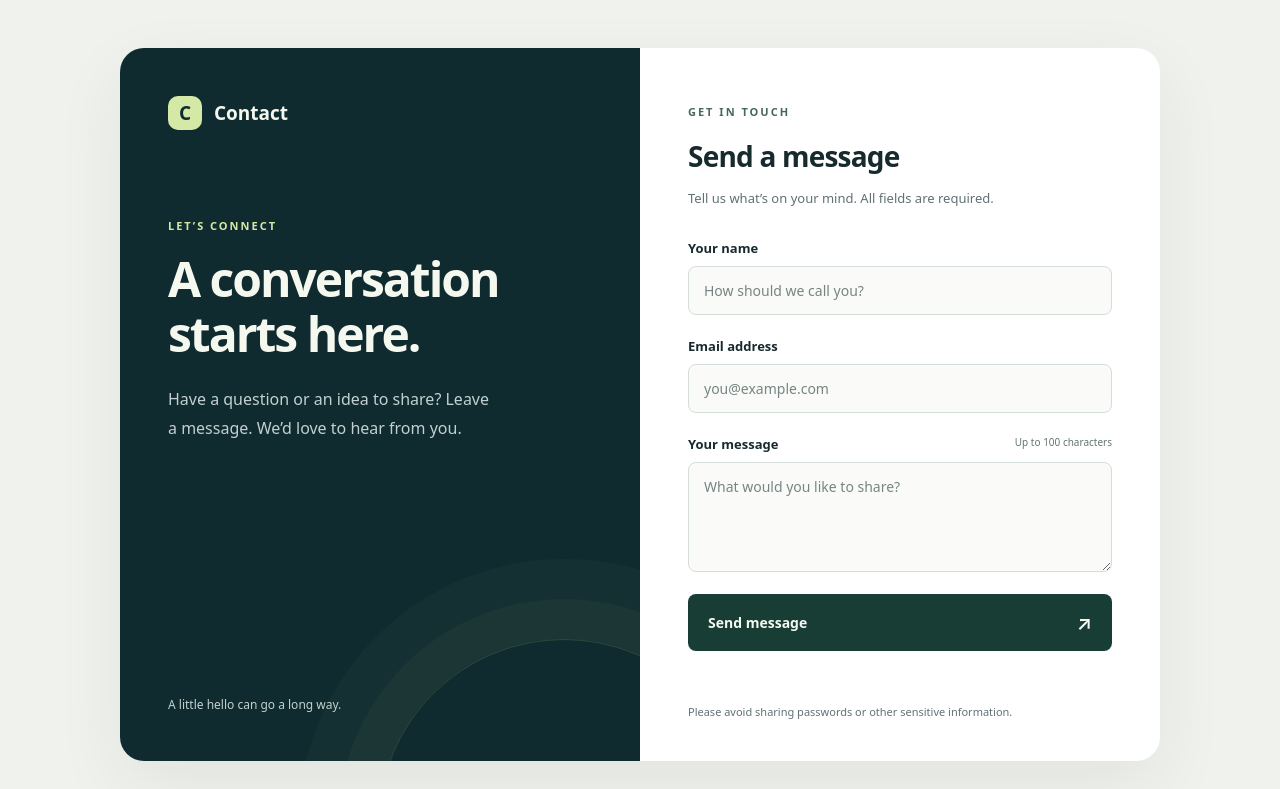
Contact form › handles a network failure without losing the message
This screenshot has width=1280, height=789.
Type " Test User " into the field labelled "Your name" at (900, 291), box [688,266,1112,315]
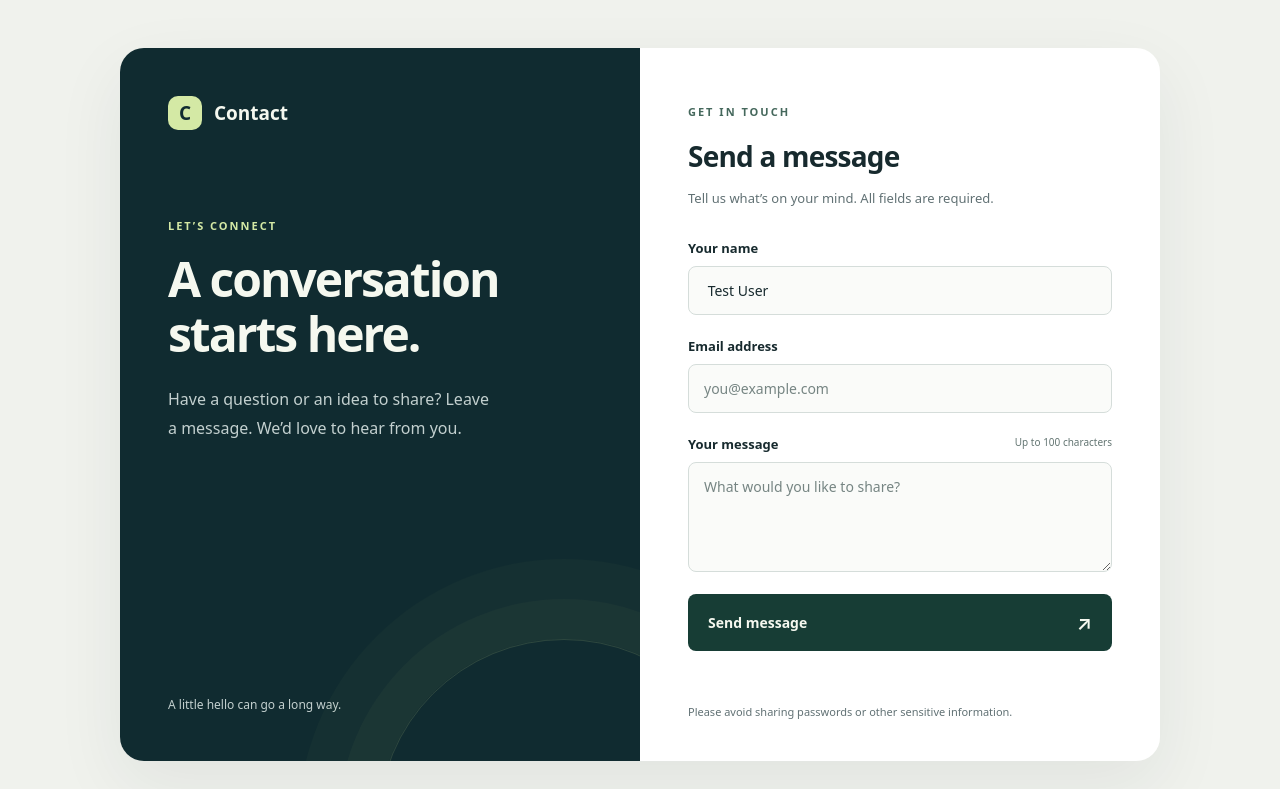
Type "user@example.com" into the field labelled "Email address" at (900, 389), box [688,364,1112,413]
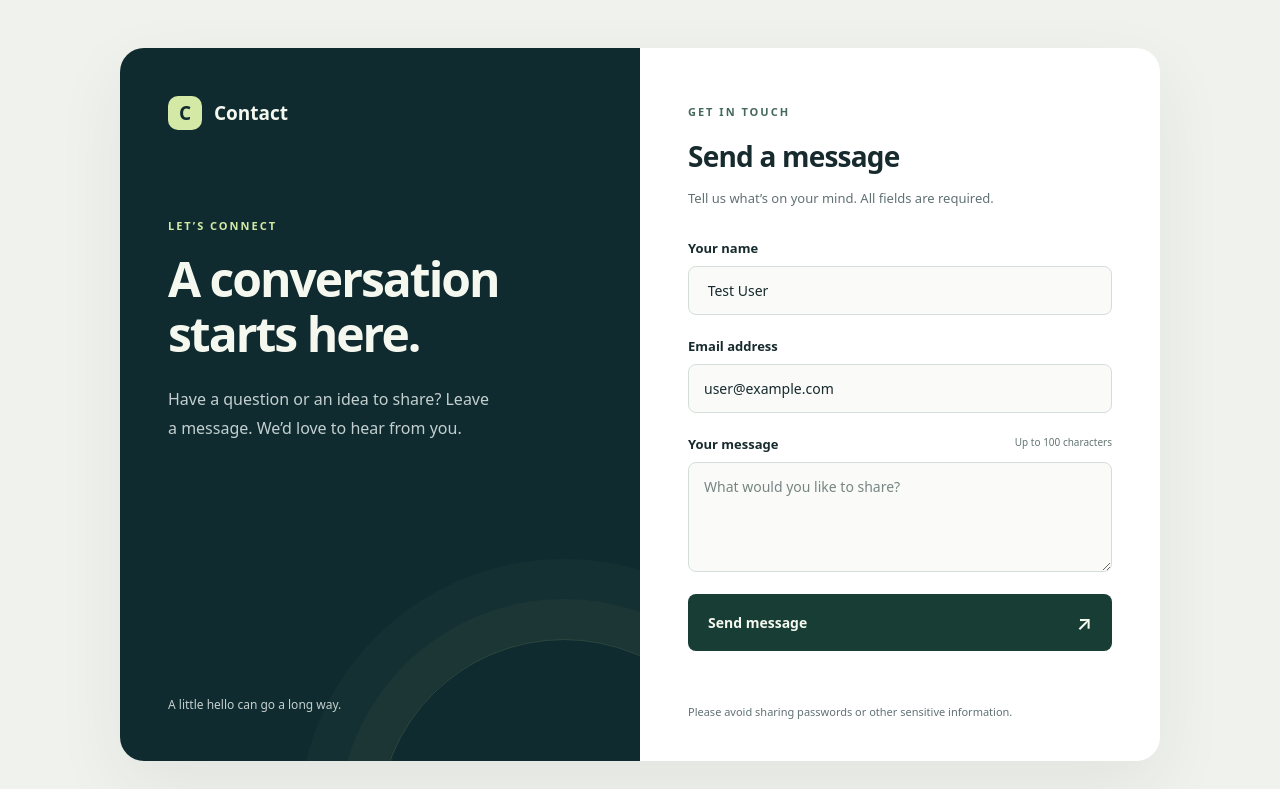
Type "Hello" into the text box labelled "Your message" at (900, 517), box [688,462,1112,572]
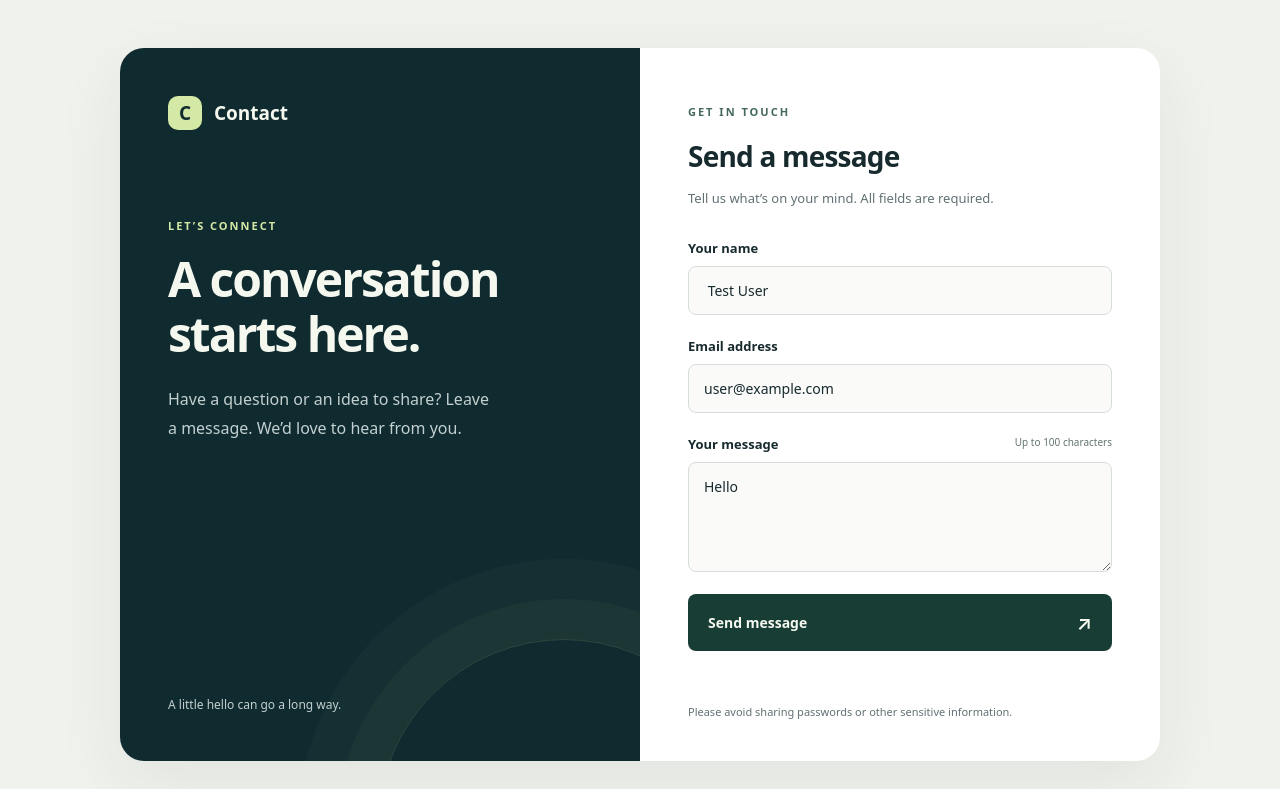
Click the button "Send message ↗" at (758, 623), box [688,594,1112,651]
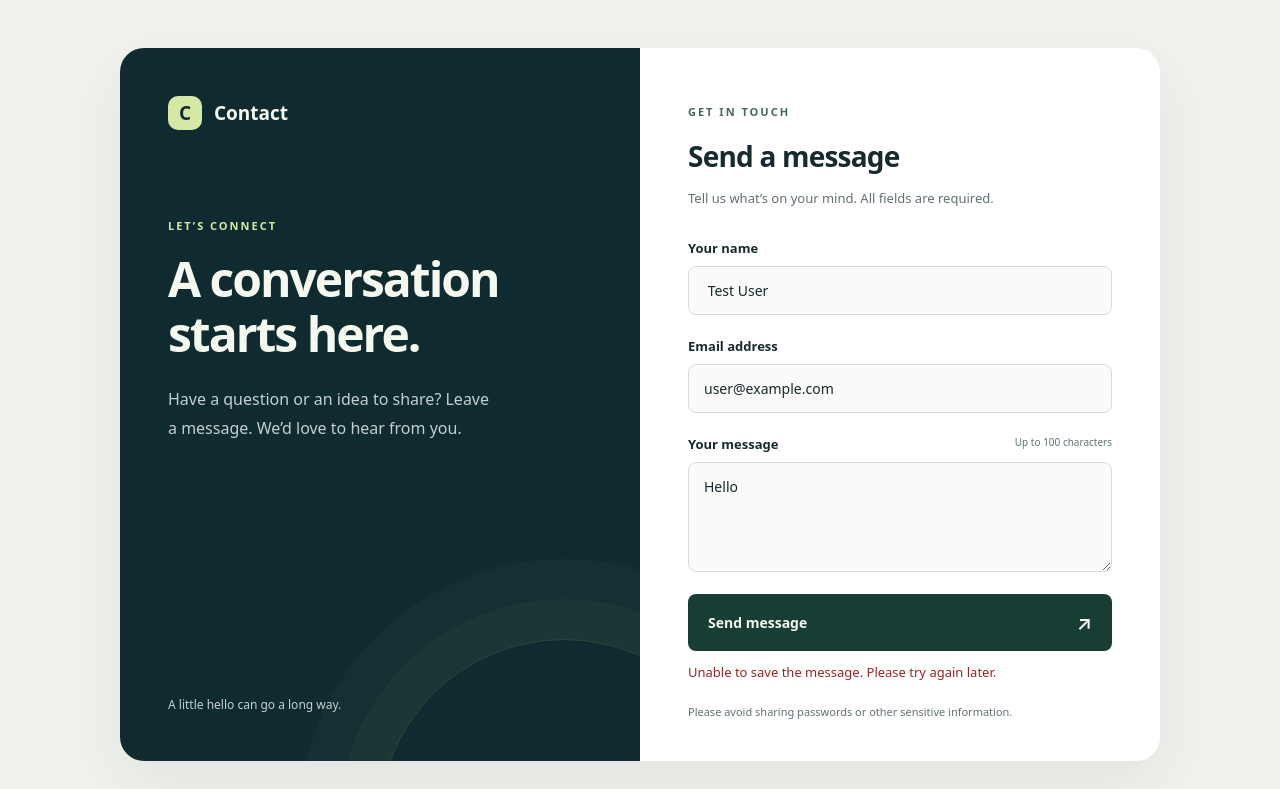
Expected: the message shows "Unable to save the message.", [688,663,996,681]
